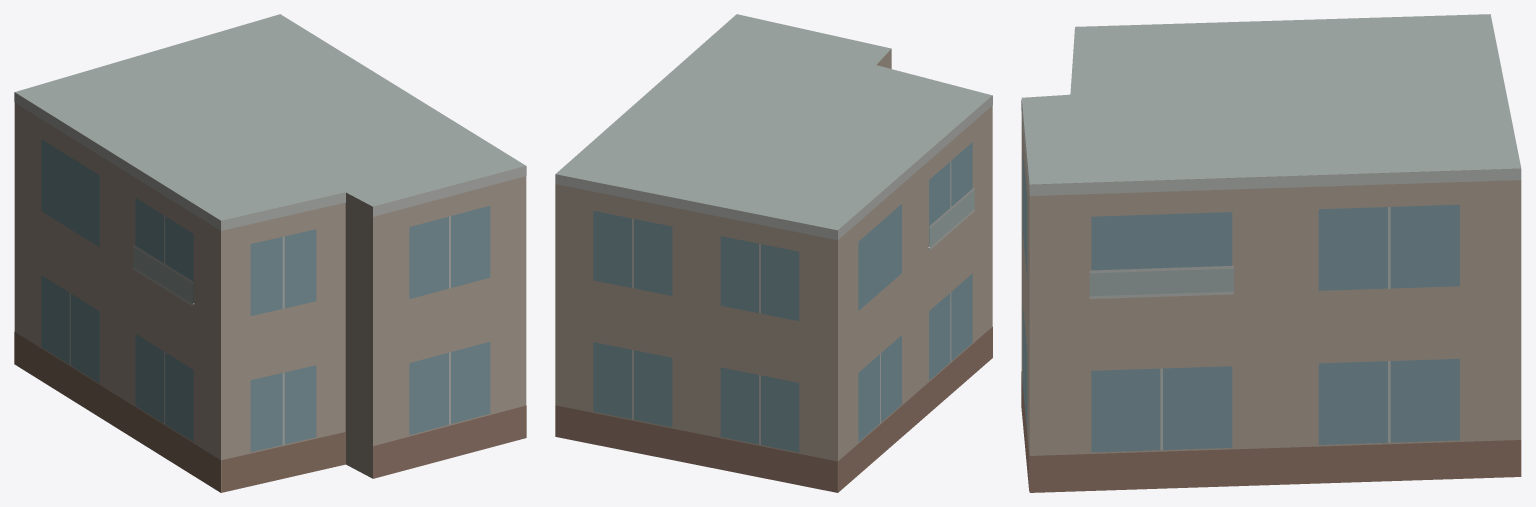
Rendered from survey-upis-32669411.glb.
The picture shows the model from 3 angles, left to right: view 1: azimuth 30°, elevation 25°; view 2: azimuth 150°, elevation 25°; view 3: azimuth 270°, elevation 25°; orthographic projection. The views are drawn at different scales.
Visible parts, largest first — view 1: survey-upis-32669411.tmp; view 2: survey-upis-32669411.tmp; view 3: survey-upis-32669411.tmp.
Part boxes in pixels (x1,y1,x2,y2): survey-upis-32669411.tmp: [14, 14, 526, 492]; survey-upis-32669411.tmp: [555, 14, 992, 492]; survey-upis-32669411.tmp: [1021, 14, 1521, 492].
Bounding box in the file's own units: 7.72 × 6.5 × 9.56.
